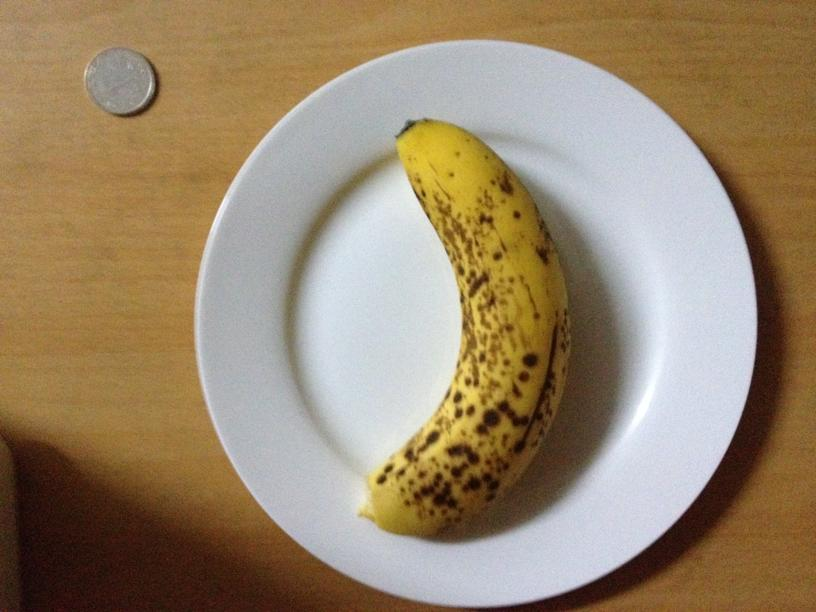banana: (355, 118, 573, 536)
coin: (81, 45, 156, 116)
